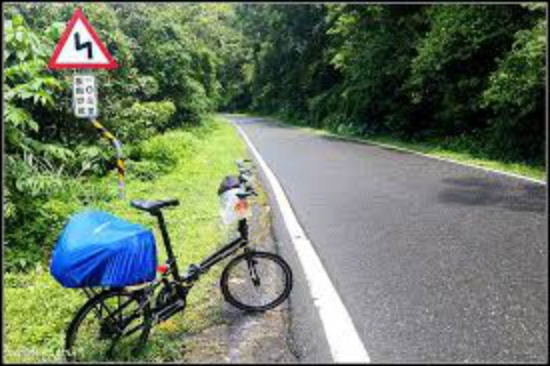Double_bend_left: (45, 7, 118, 69)
